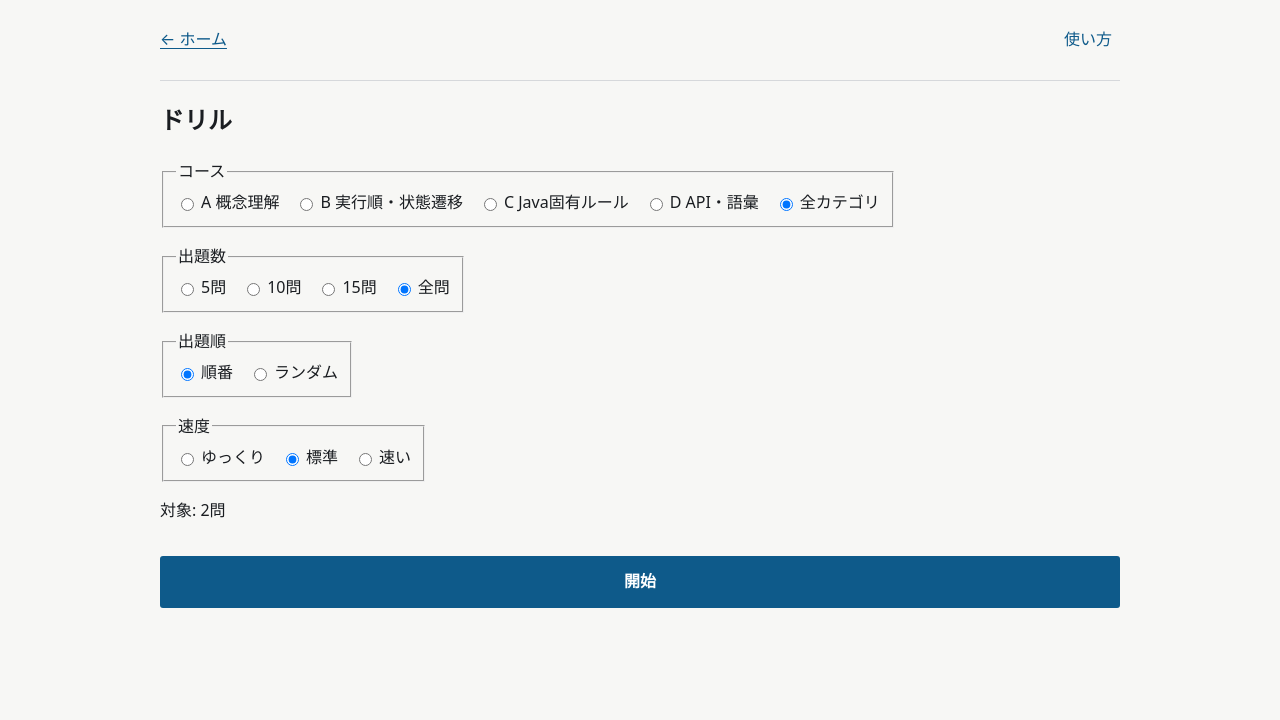
Test case: Drill Rating integration › keeps stats unchanged when moving on by manual
Step 1. Click the button "開始" → x=640, y=582, box [160,556,1120,608]
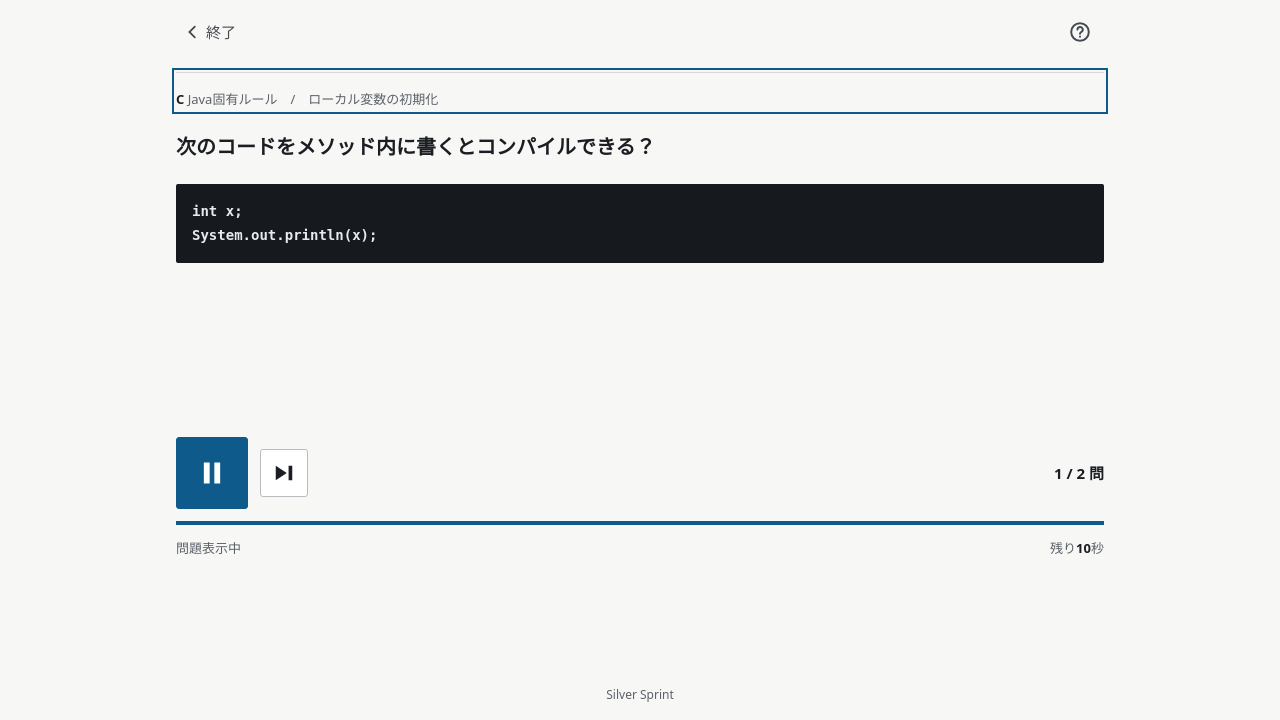
Step 2. Click the button named "答えを見る" → x=284, y=473, box [260,449,308,497]
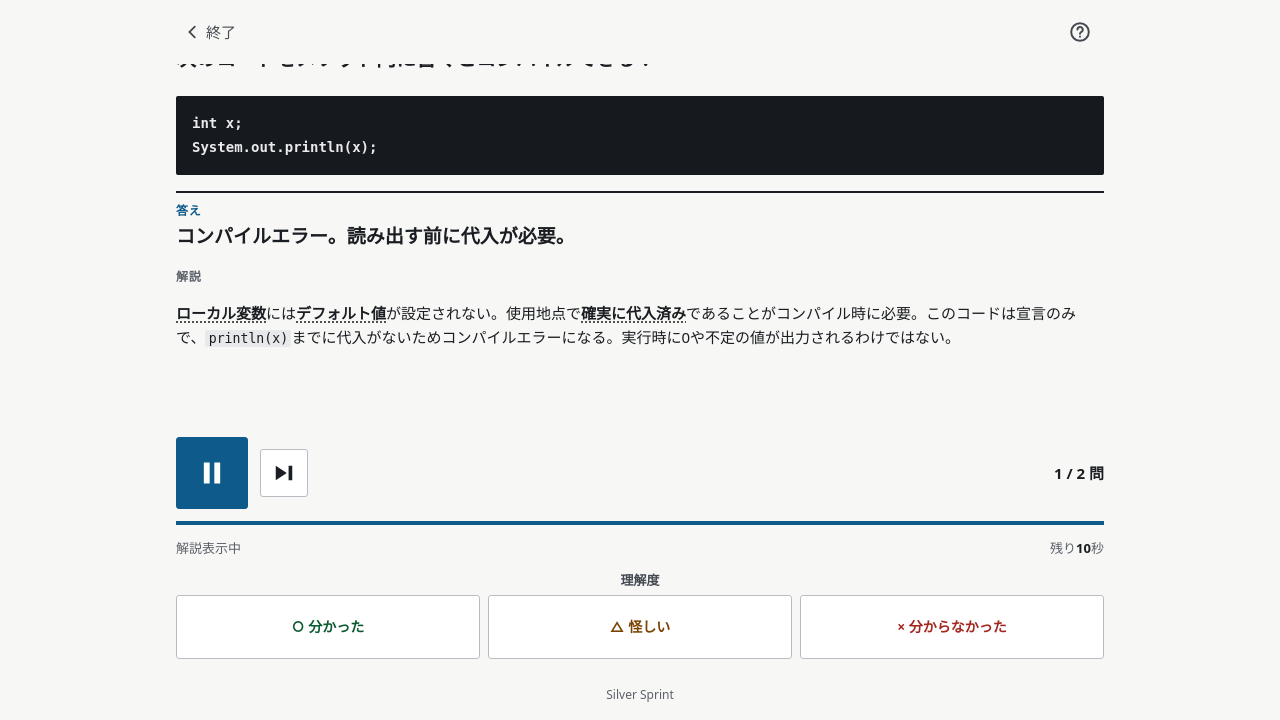
Step 3. Click the button named "評価せずに次へ" → x=284, y=473, box [260,449,308,497]
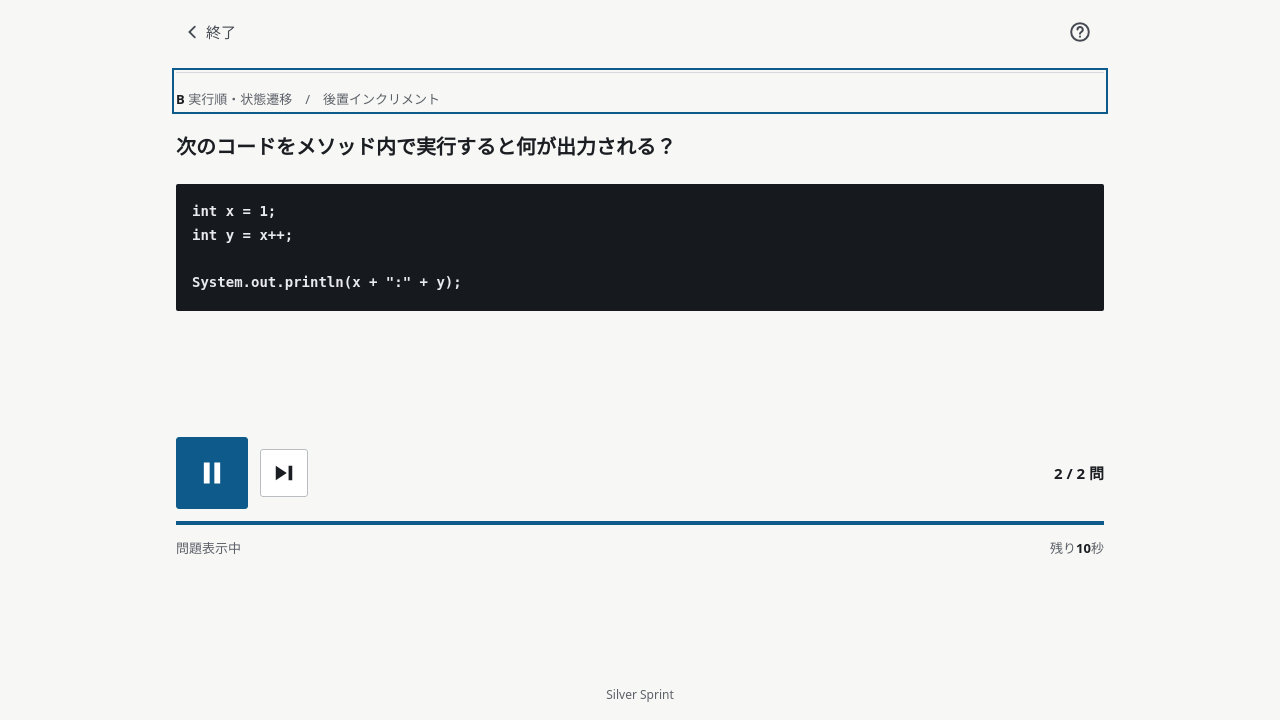
Result: the message reads "2 / 2 問" at [1054,461,1104,485]
Step 4. Click the button named "答えを見る" → x=284, y=473, box [260,449,308,497]
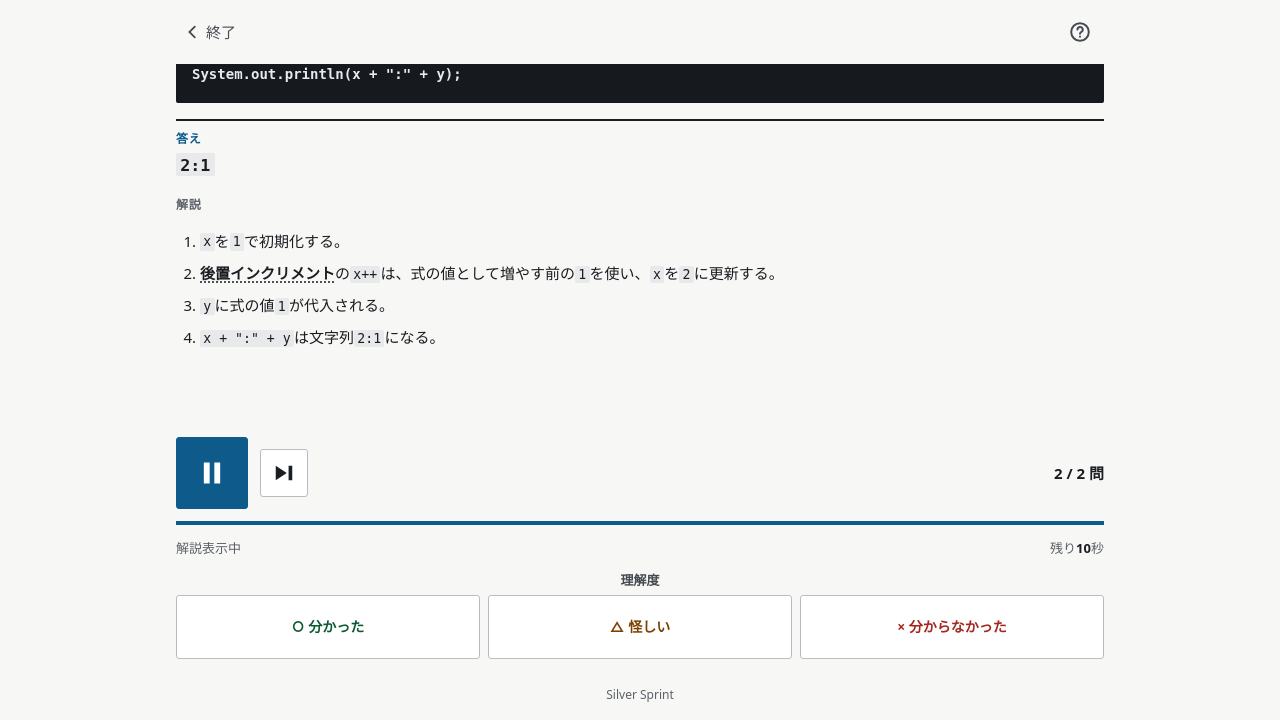
Step 5. Click the button named "評価せずに完了" → x=284, y=473, box [260,449,308,497]
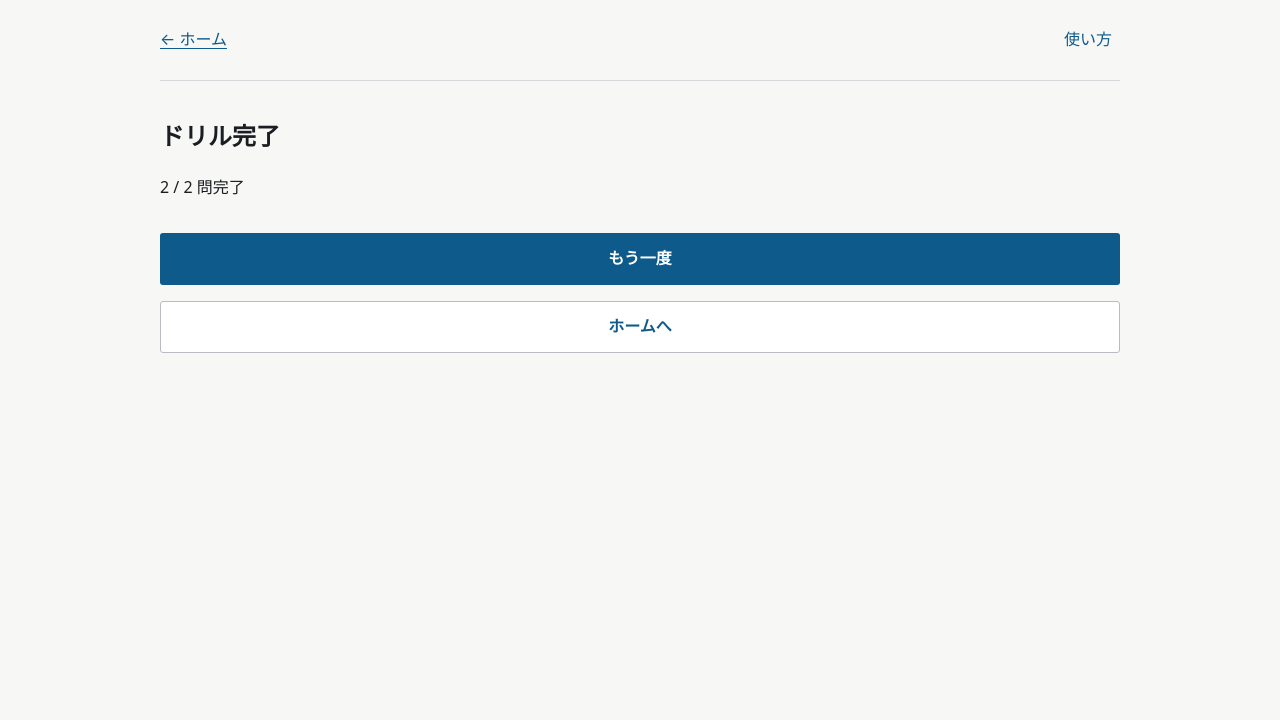
Result: the heading "ドリル完了" is shown at [160,119,280,152]
